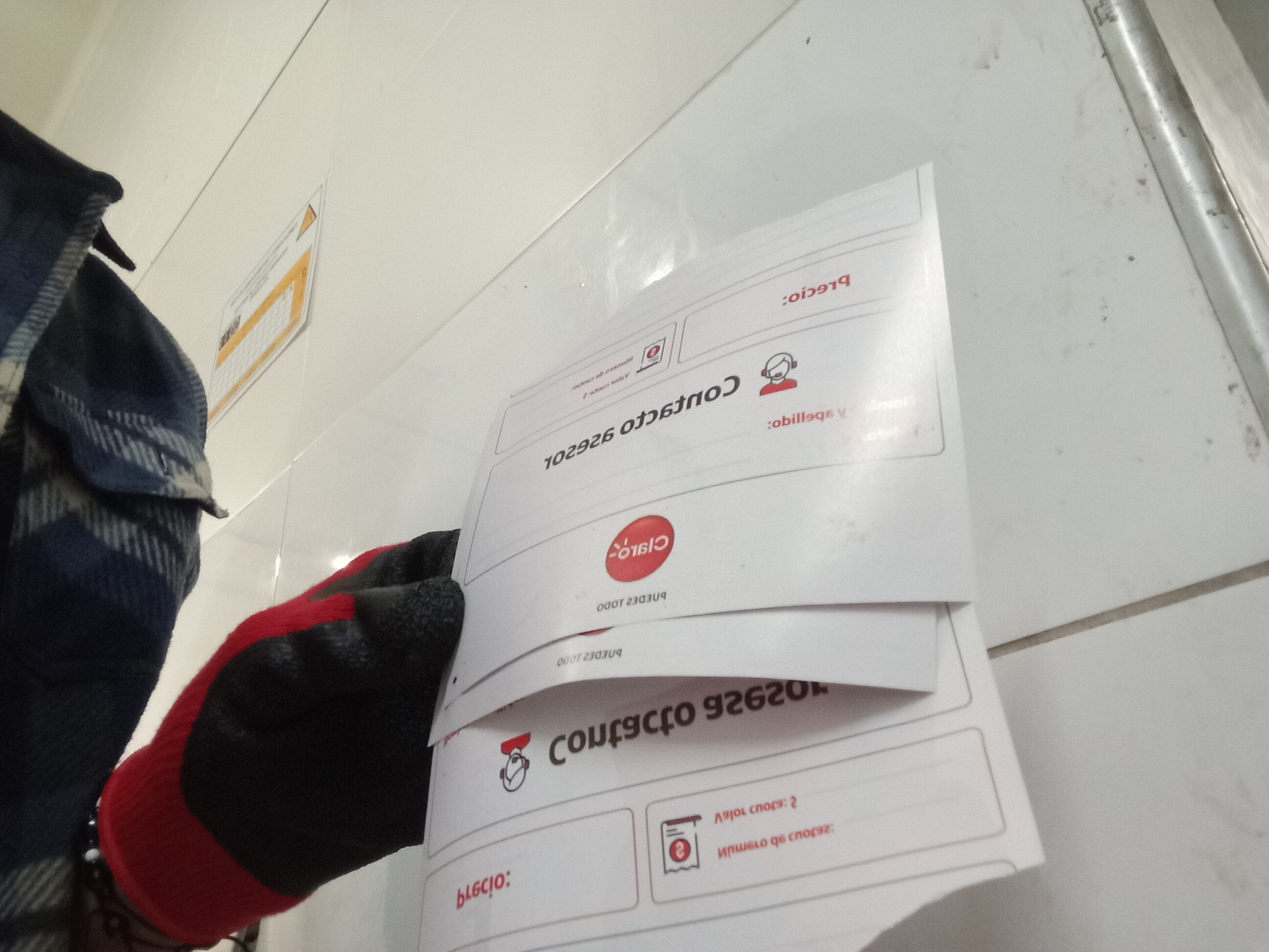Papel: (418, 163, 1046, 952)
